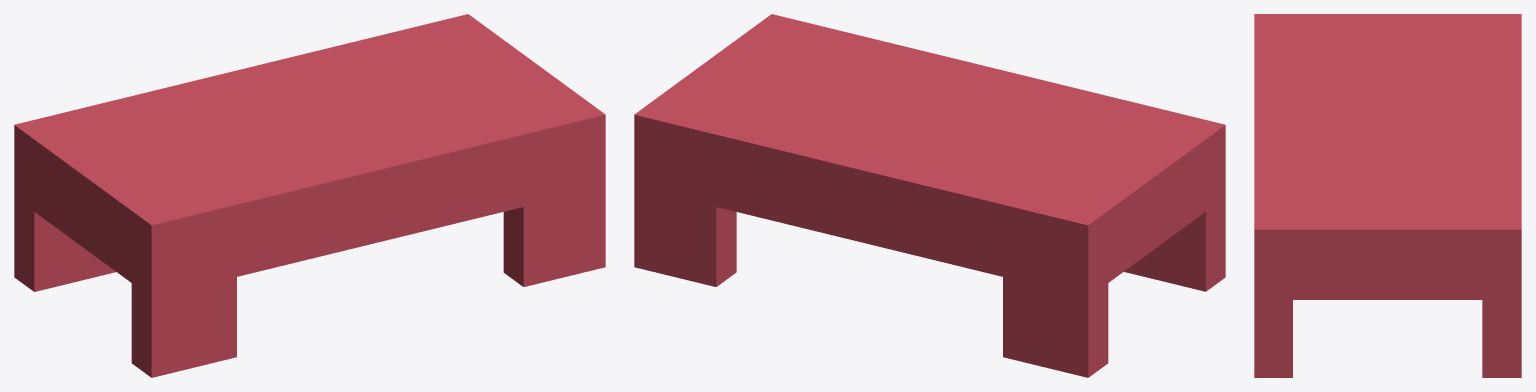
File: Table.glb
The picture shows the model from 3 angles, left to right: view 1: azimuth 30°, elevation 25°; view 2: azimuth 150°, elevation 25°; view 3: azimuth 270°, elevation 25°; orthographic projection. The views are drawn at different scales.
Visible parts, largest first — view 1: Mesh_Mesh_head_geo.001_lambert2SG.001; view 2: Mesh_Mesh_head_geo.001_lambert2SG.001; view 3: Mesh_Mesh_head_geo.001_lambert2SG.001.
Boxes of the visible parts, bbox=[...] form: Mesh_Mesh_head_geo.001_lambert2SG.001: bbox=[14, 14, 605, 377]; Mesh_Mesh_head_geo.001_lambert2SG.001: bbox=[634, 14, 1225, 377]; Mesh_Mesh_head_geo.001_lambert2SG.001: bbox=[1254, 14, 1521, 377].
Bounding box in the file's own units: 118 × 38.01 × 62.14.
